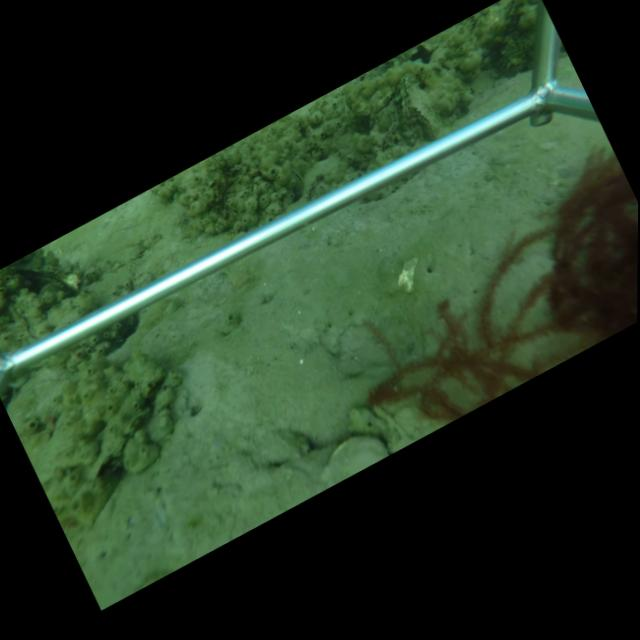Oyster-Closed: (9, 265, 83, 297), (407, 92, 446, 140), (397, 72, 419, 146)
Oyster-Indeterminate: (318, 431, 391, 488)
